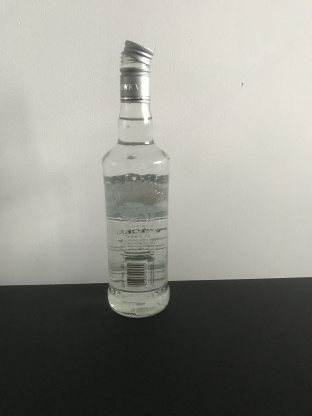nakretka: (118, 35, 154, 103)
